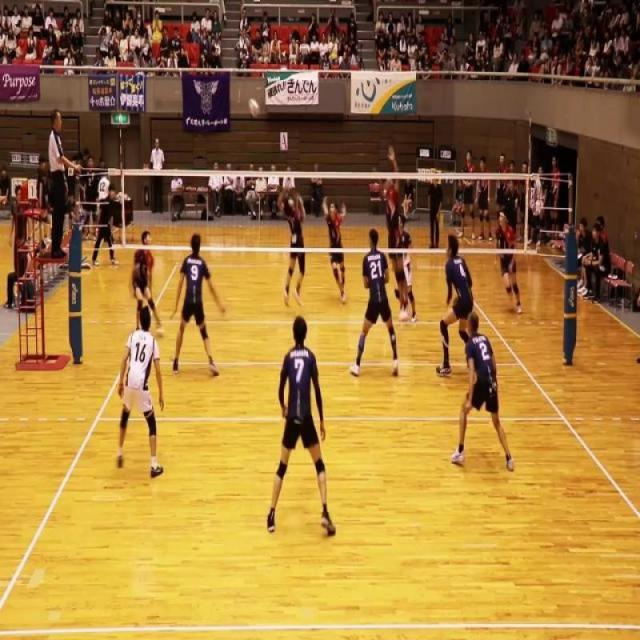volleyball: (248, 96, 260, 117)
